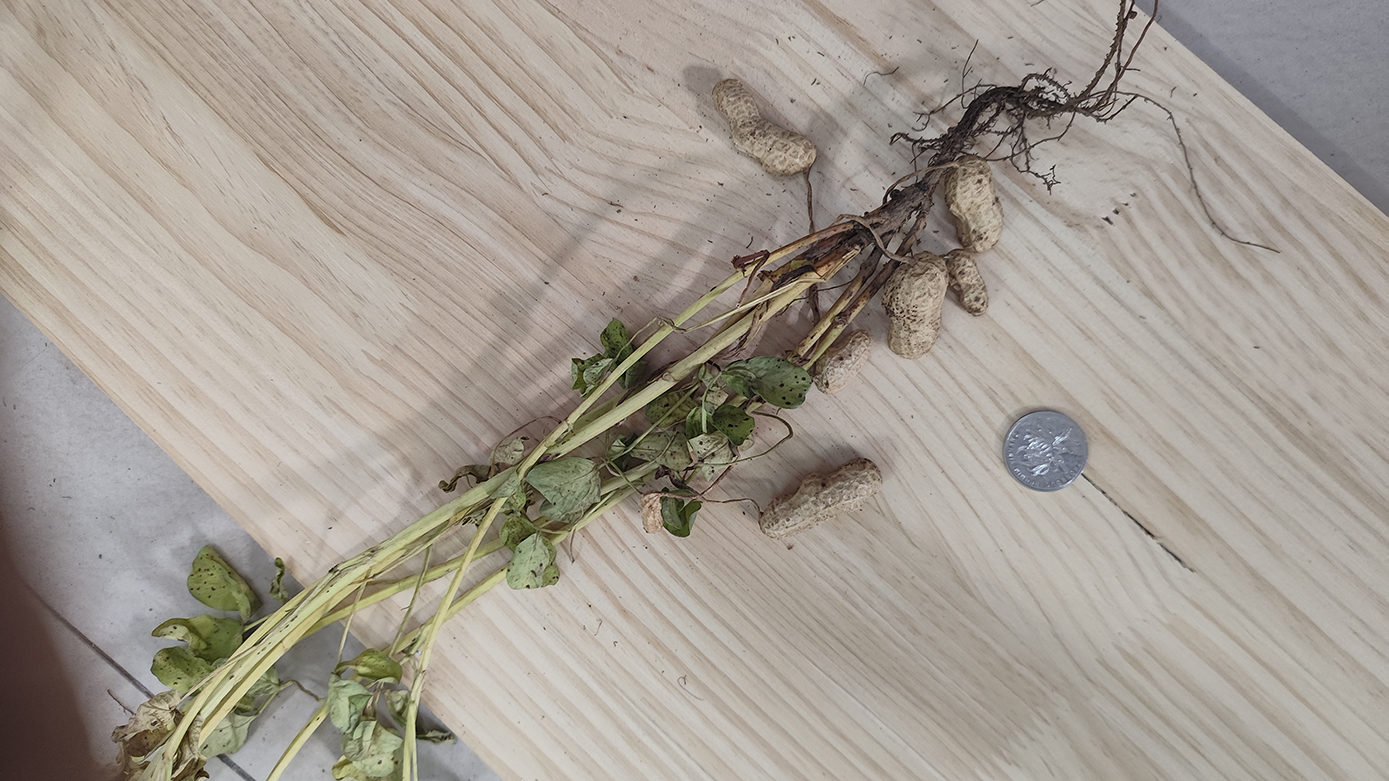h: (758, 457, 883, 540), (713, 79, 818, 177), (884, 252, 948, 359), (946, 153, 1003, 252), (813, 328, 870, 393), (946, 249, 988, 318)
l: (639, 489, 665, 534)
